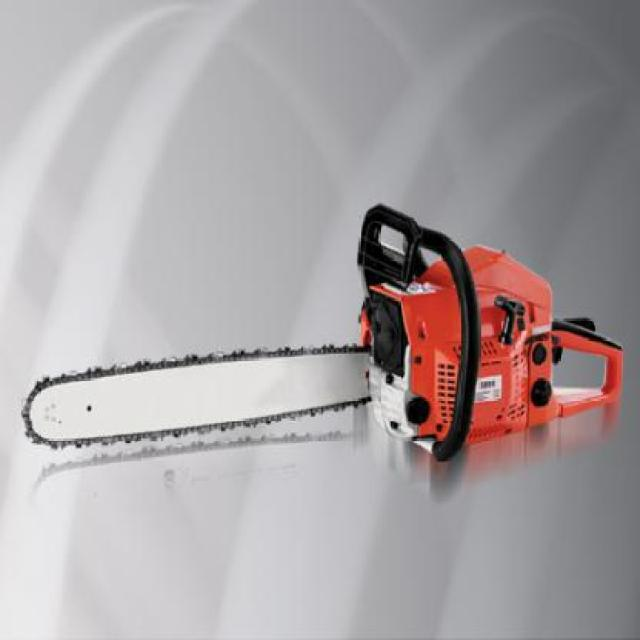Chainsaw: (18, 197, 624, 463)
